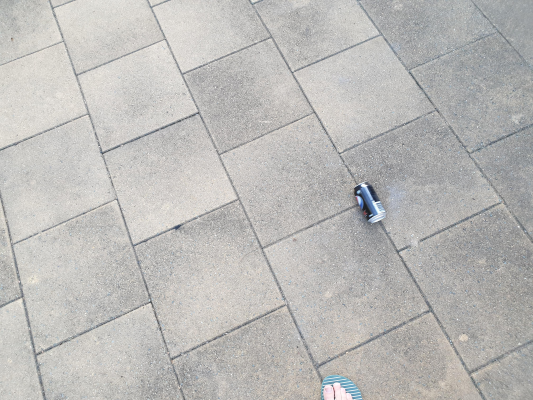Plastic Bottle: (354, 181, 386, 223)
